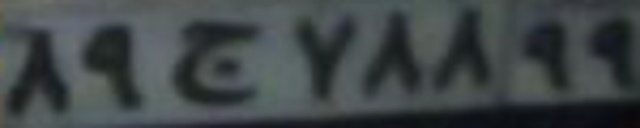7: (291, 12, 355, 99)
8: (5, 28, 68, 116), (430, 9, 493, 92), (363, 13, 420, 98)
9: (81, 26, 148, 110), (584, 18, 637, 90), (519, 22, 571, 89)
jim: (169, 19, 260, 106)
